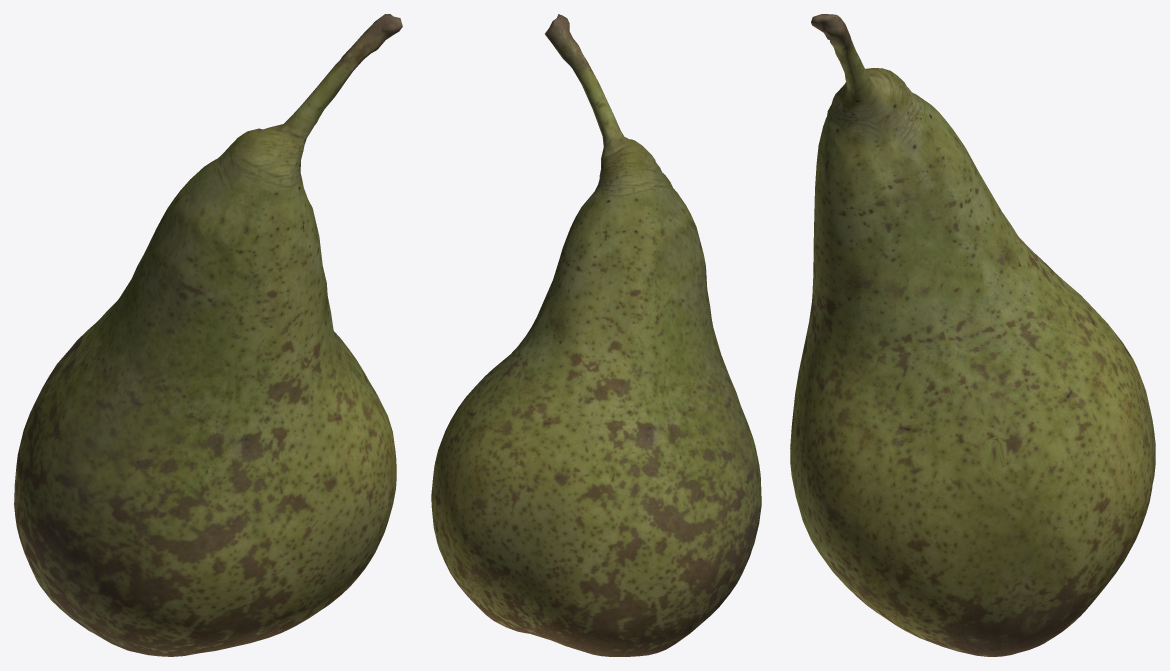
The model's file is Pear.glb.
3 views of the same model, side by side, from view 1: azimuth 30°, elevation 25°; view 2: azimuth 150°, elevation 25°; view 3: azimuth 270°, elevation 25° (orthographic). The views are drawn at different scales.
Visible parts, largest first — view 1: node_Pear_-283486; view 2: node_Pear_-283486; view 3: node_Pear_-283486.
Part boxes in pixels (box(x1,y1,x2,y2)): node_Pear_-283486: box(14, 14, 402, 656); node_Pear_-283486: box(431, 14, 761, 656); node_Pear_-283486: box(790, 14, 1155, 656).
Bounding box in the file's own units: 0.0403 × 0.0733 × 0.0366.
Materials: 1 (1 with a texture image).
